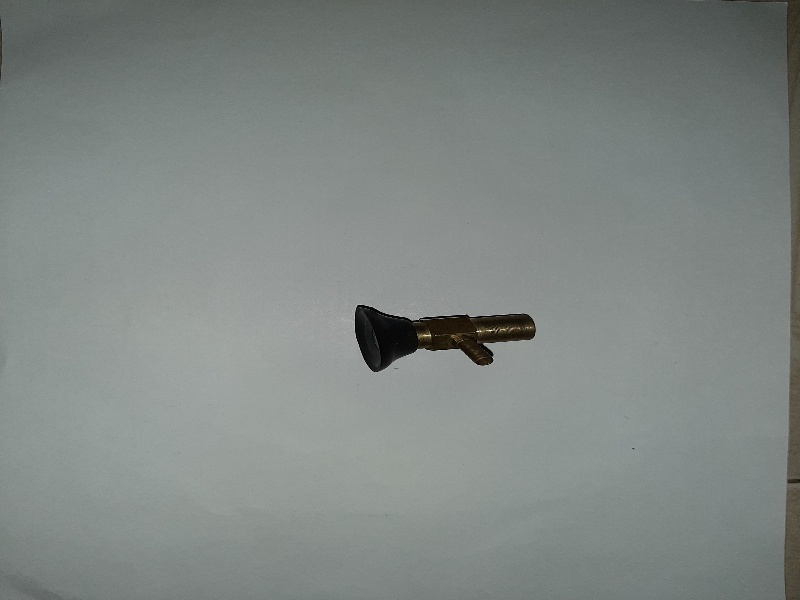Joint Hold: (350, 292, 543, 380)
